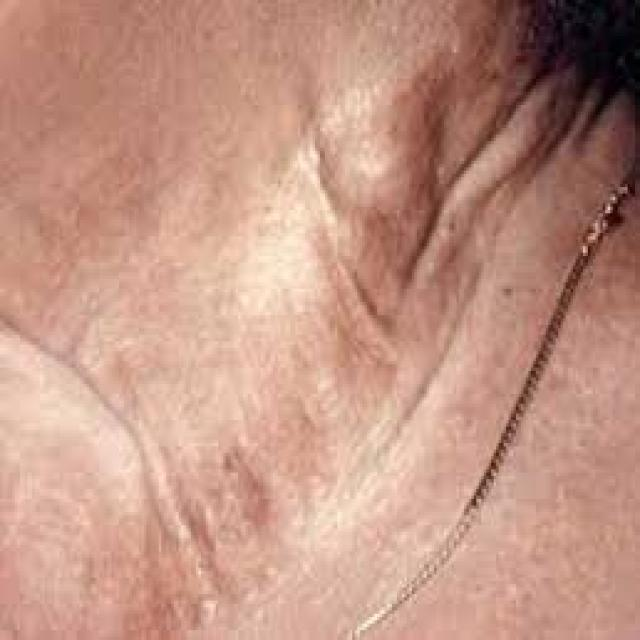Acanthosis Nigricans: (73, 6, 627, 640)
